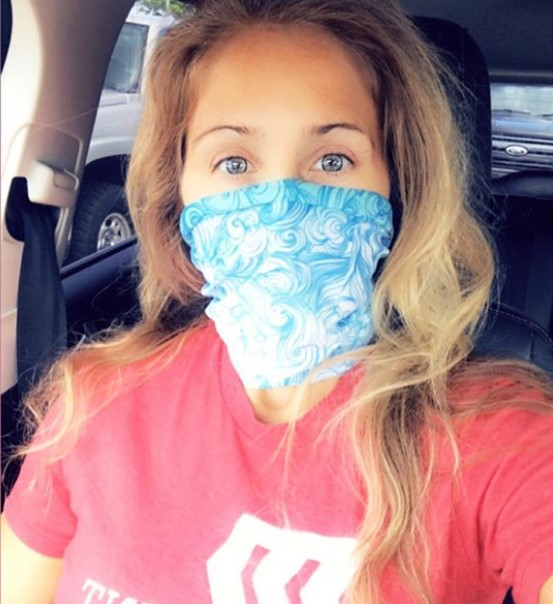face_with_mask: (173, 22, 396, 324)
